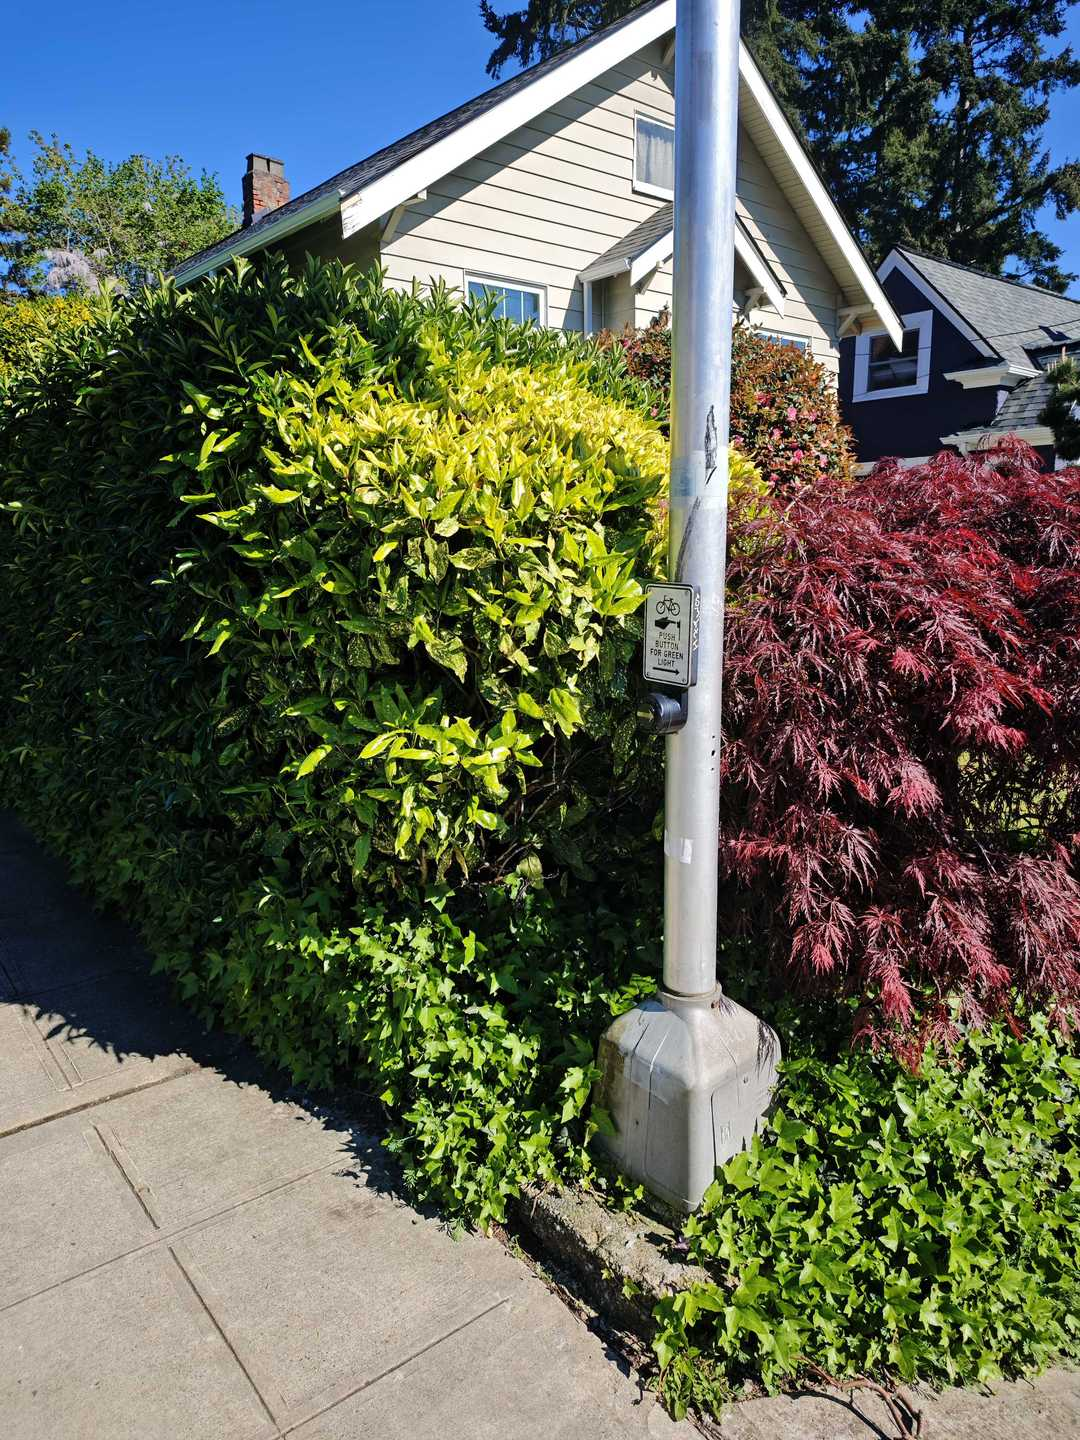ped_button: (640, 583, 698, 735)
